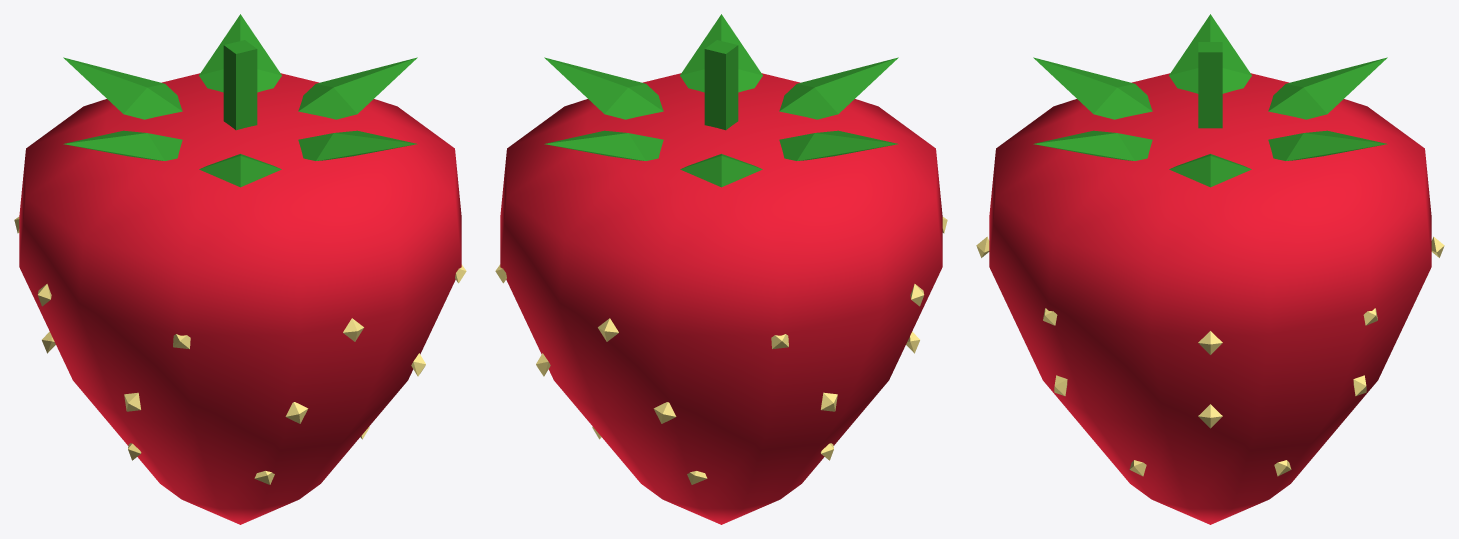
The model's file is Strawberry.fbx.
The picture shows the model from 3 angles, left to right: view 1: azimuth 30°, elevation 25°; view 2: azimuth 150°, elevation 25°; view 3: azimuth 270°, elevation 25°; orthographic projection.
Parts seen in each view (by area): view 1: Strawberry; view 2: Strawberry; view 3: Strawberry.
Part boxes in pixels (x1,y1,x2,y2): Strawberry: [14, 14, 466, 524]; Strawberry: [495, 14, 947, 524]; Strawberry: [976, 14, 1444, 524].
Bounding box in the file's own units: 0.0675 × 0.076 × 0.0675.
